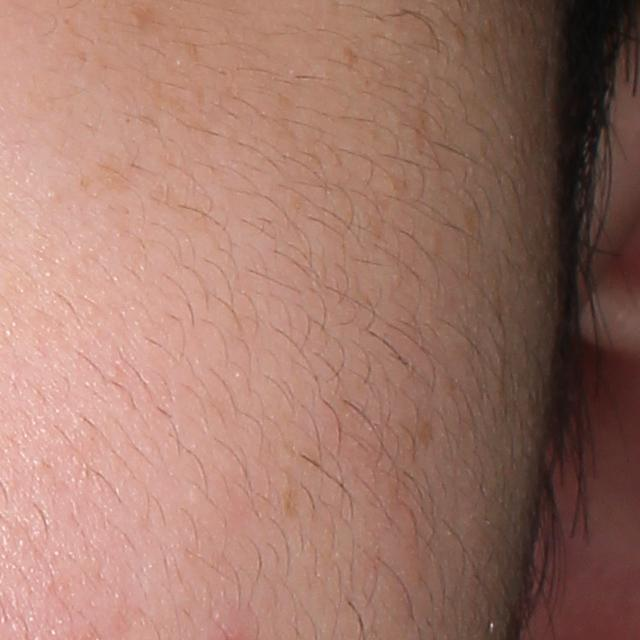melasma: (81, 152, 148, 195)
